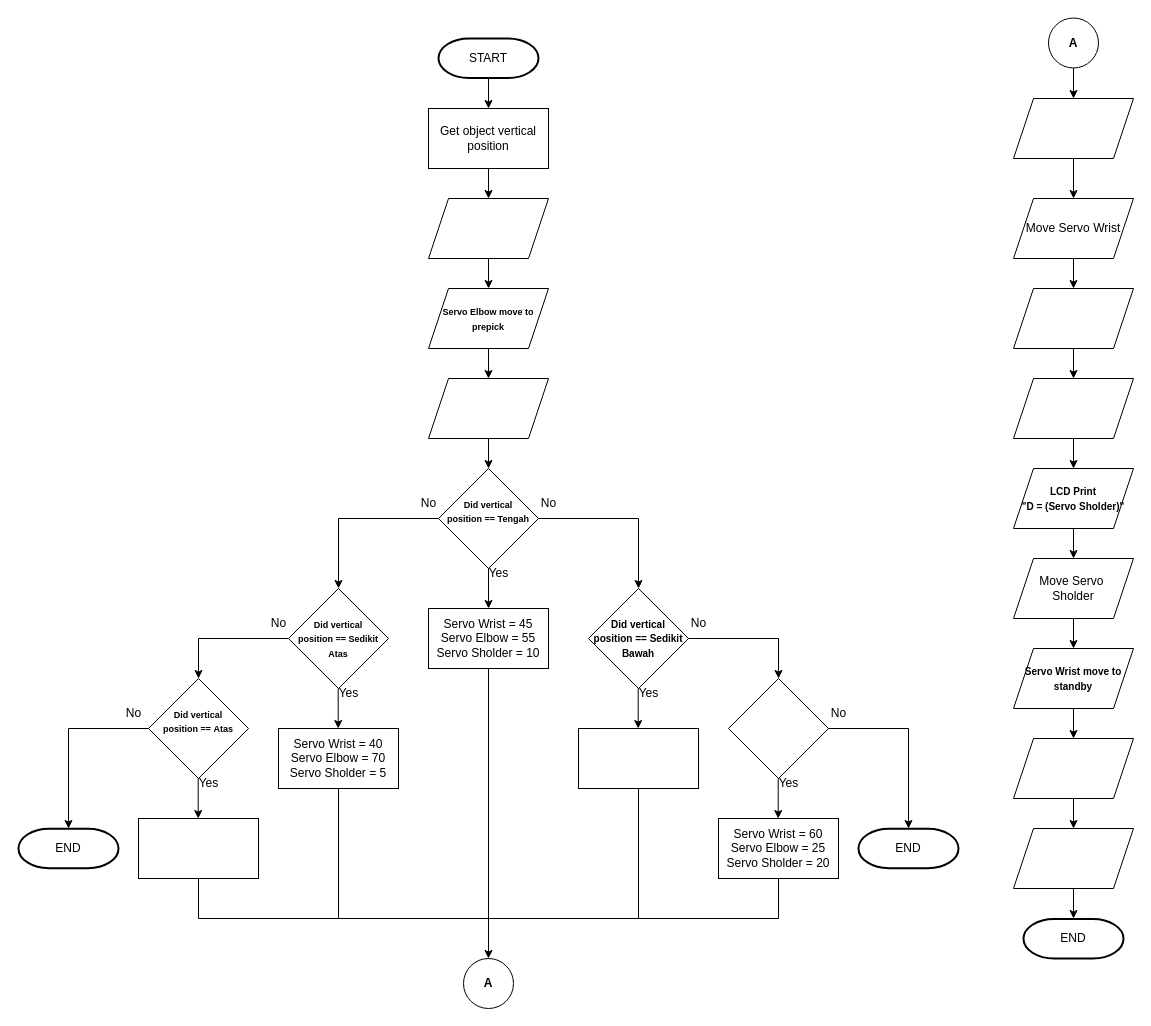
Some shapes in this 1151 by 1026 pixel diagram are drawn without their labels. The centre of each missing label's shape, as x and y in pixels:
Did vertical position == Bawah: point (778, 728)
LCD Print "M = (Servo Elbow)": point (1073, 318)
LCD Print "U = (Servo Wrist)": point (1073, 128)
Move Servo Elbow: point (1073, 408)
Servo Elbow move to standby: point (1073, 768)
Servo Sholder move to prepick: point (488, 408)
Servo Sholder move to standby: point (1073, 858)
Servo Wrist = 30 Servo Elbow = 85 Servo Sholder = 0: point (198, 848)
Servo Wrist = 55 Servo Elbow = 40 Servo Sholder = 15: point (638, 758)
Servo Wrist move to prepick: point (488, 228)
